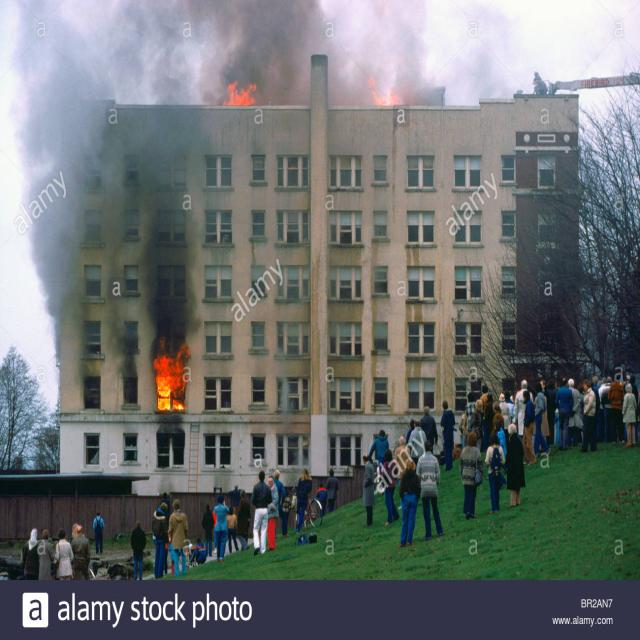fire: (151, 351, 190, 419), (370, 75, 401, 111), (222, 82, 258, 110)
smoke: (22, 4, 200, 322), (212, 3, 520, 65)
